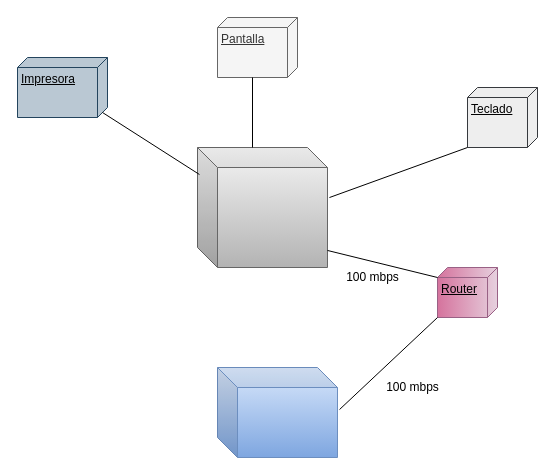
Image size: 555x475. Some labels were removed from this diagram. Here are the shapes that lost their labels. From the top down, the centre of each, then its label:
At pixel 262 207: "PC SO : Linux Memoria: 1 TB Pentium III".
At pixel 277 412: "Servidor SO: Linux RAM: 1 GB".
